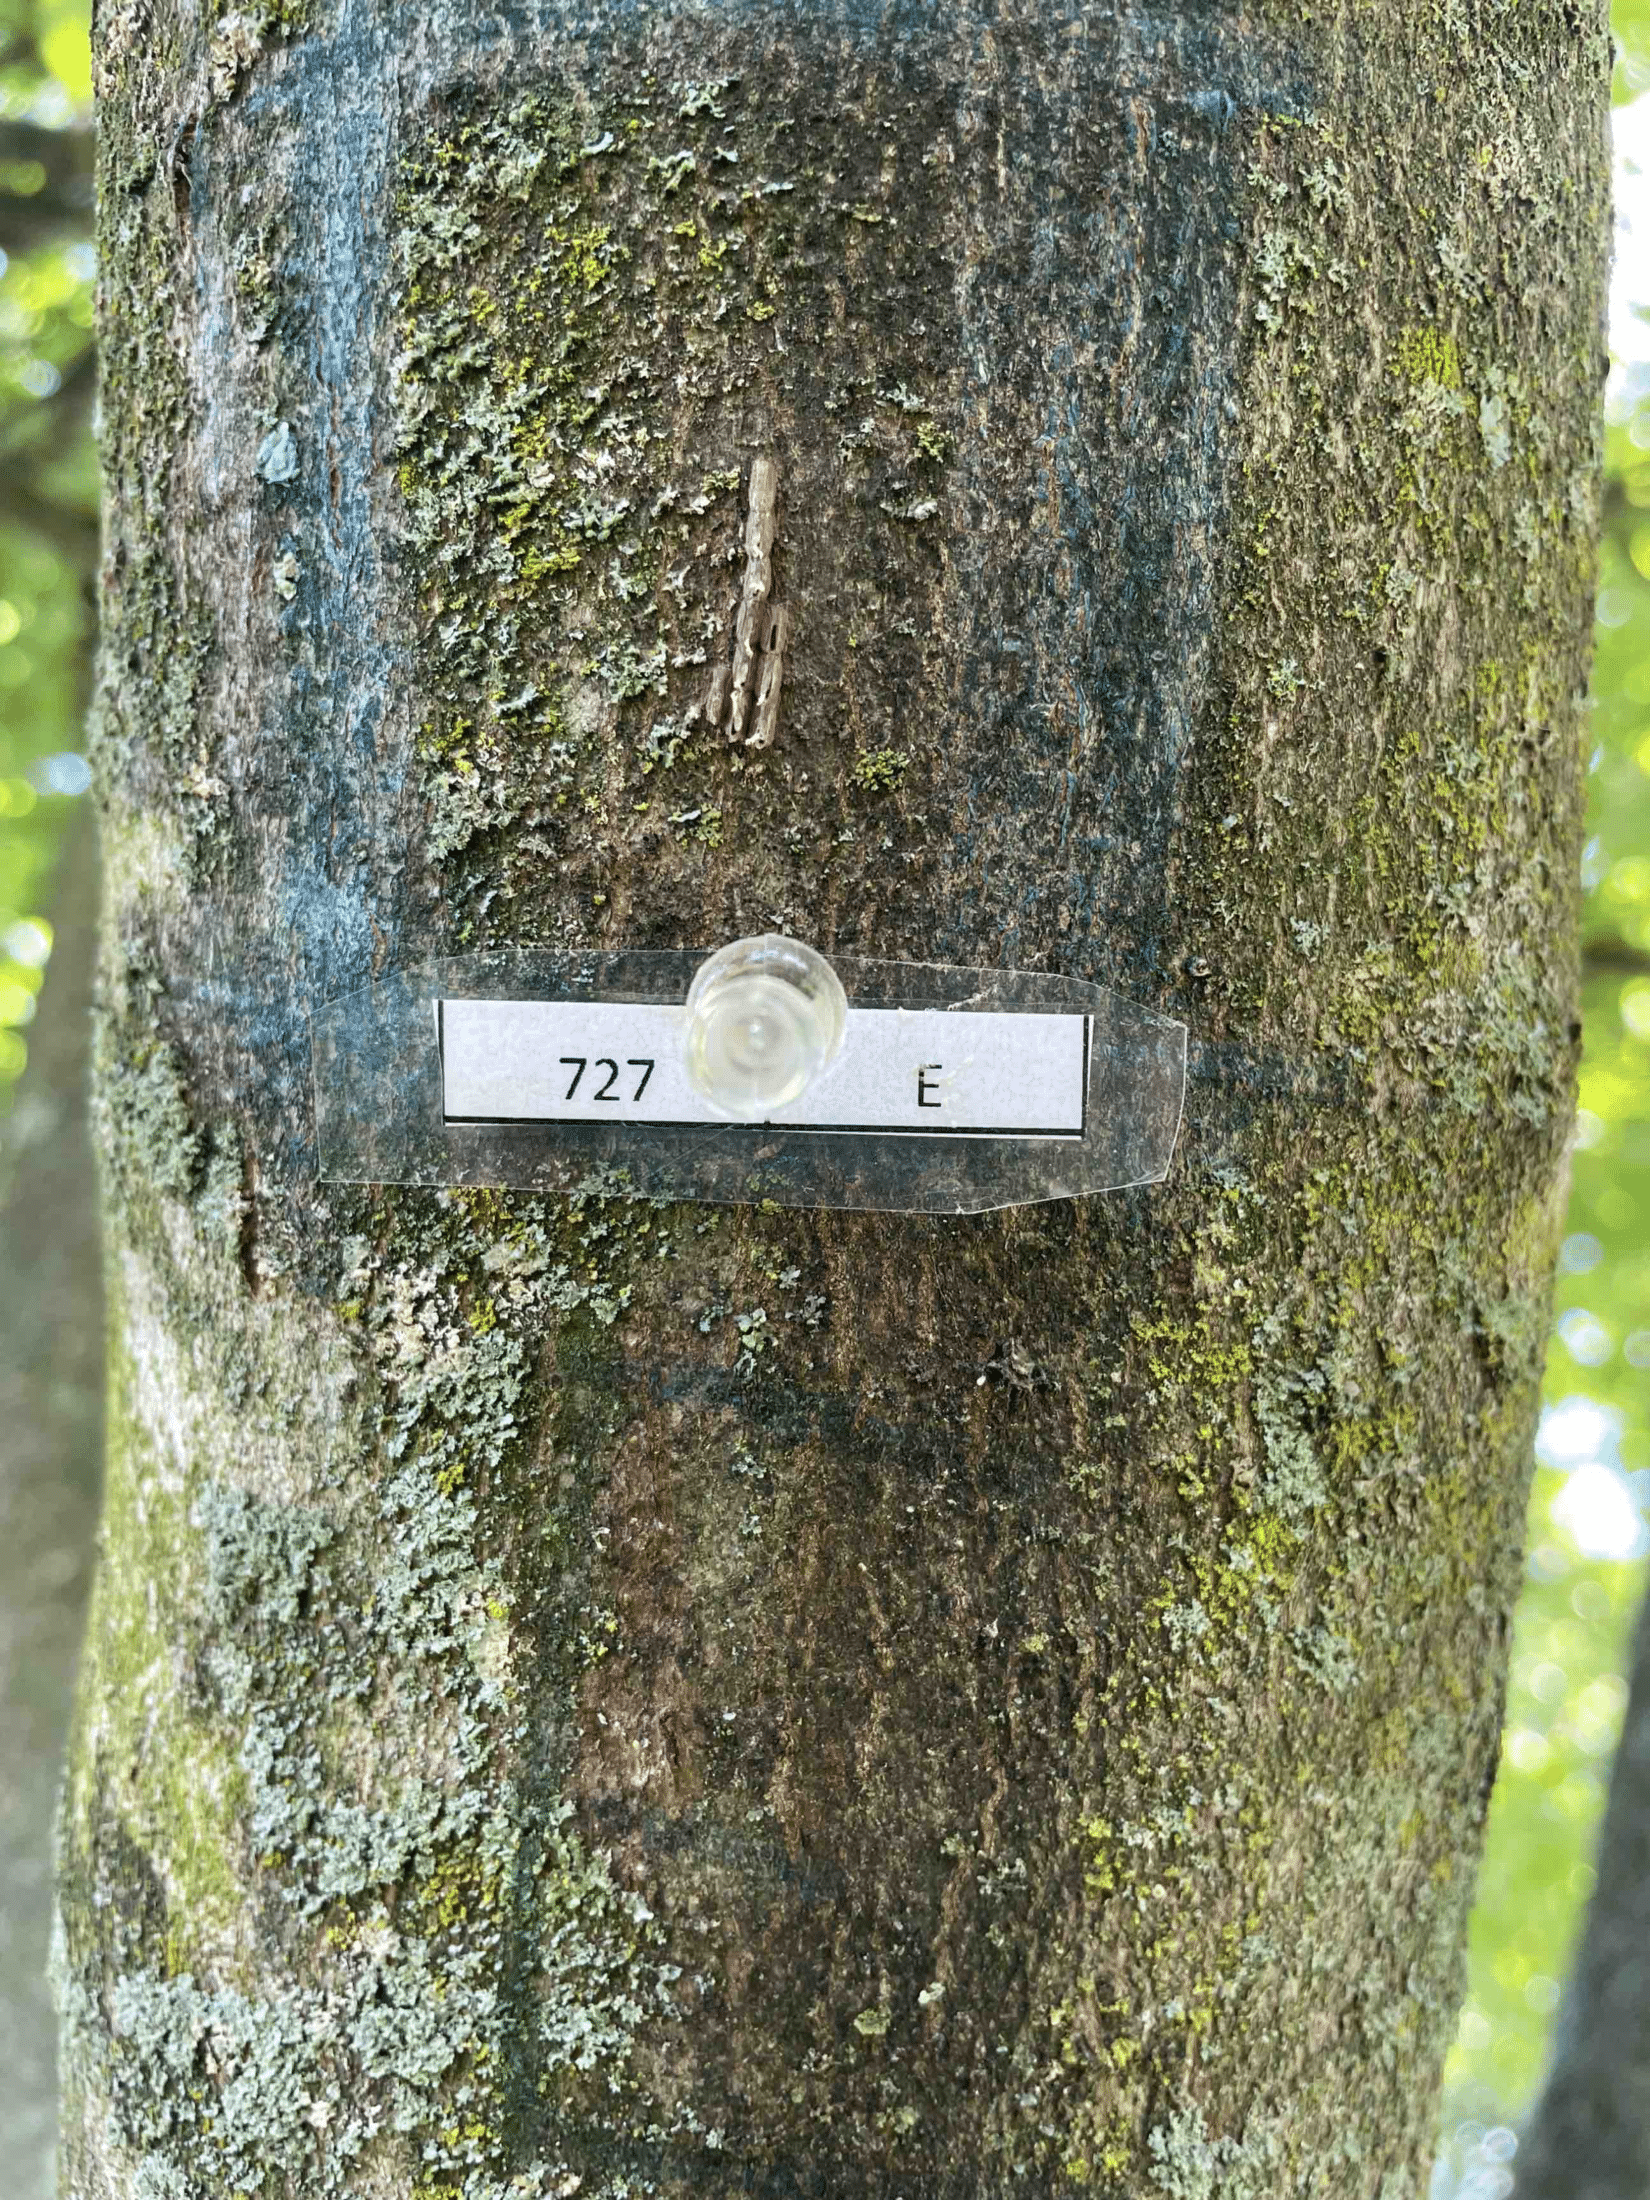egg masses: (697, 437, 775, 745)
